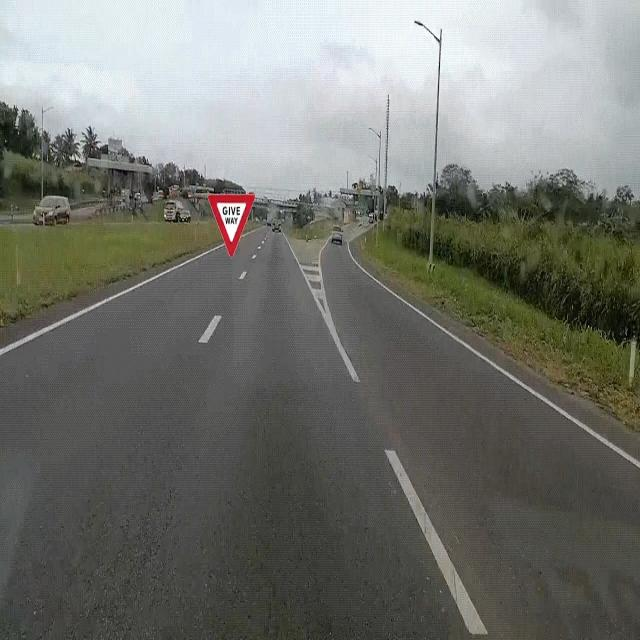Ceder-le-Passage: (204, 179, 261, 272)
